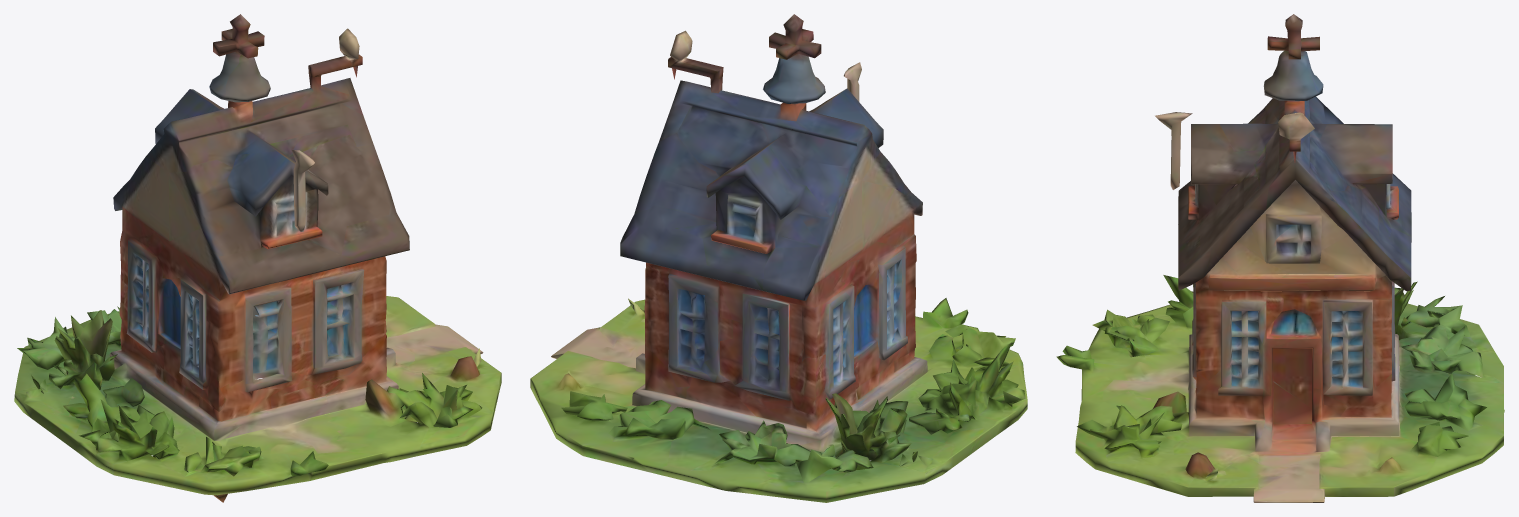
Rendered from school.glb.
3 renders of one model, left to right at view 1: azimuth 30°, elevation 25°; view 2: azimuth 150°, elevation 25°; view 3: azimuth 270°, elevation 25°, orthographic. The views are drawn at different scales.
Parts seen in each view (by area): view 1: SchoolBody; view 2: SchoolBody; view 3: SchoolBody.
Part boxes in pixels (x1,y1,x2,y2): SchoolBody: (14, 14, 501, 502); SchoolBody: (530, 14, 1027, 502); SchoolBody: (1056, 14, 1504, 502).
Bounding box in the file's own units: 10 × 9.3 × 9.34.
Materials: 1 (1 with a texture image).
